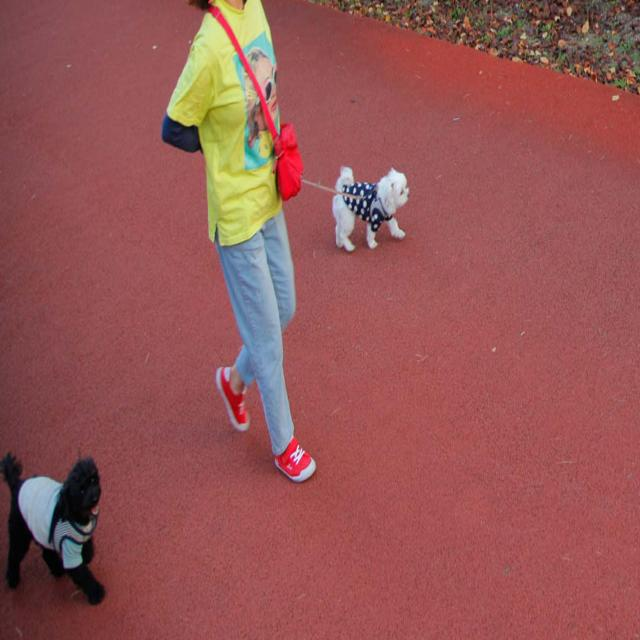Leashed_Dog: (253, 166, 409, 253)
Unleashed_Dog: (0, 201, 244, 604)
